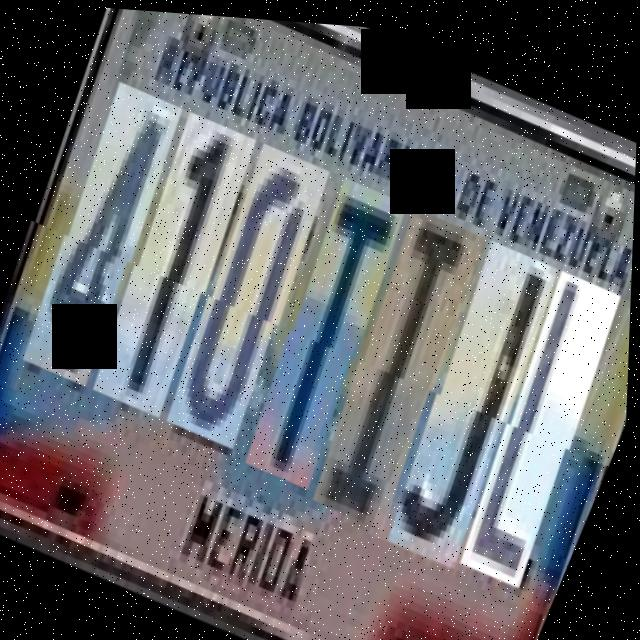0: (152, 133, 343, 452)
1: (77, 102, 270, 422)
4: (8, 73, 196, 391)
I: (297, 195, 500, 531)
J: (372, 226, 574, 569)
L: (445, 255, 633, 586)
T: (229, 166, 422, 492)
